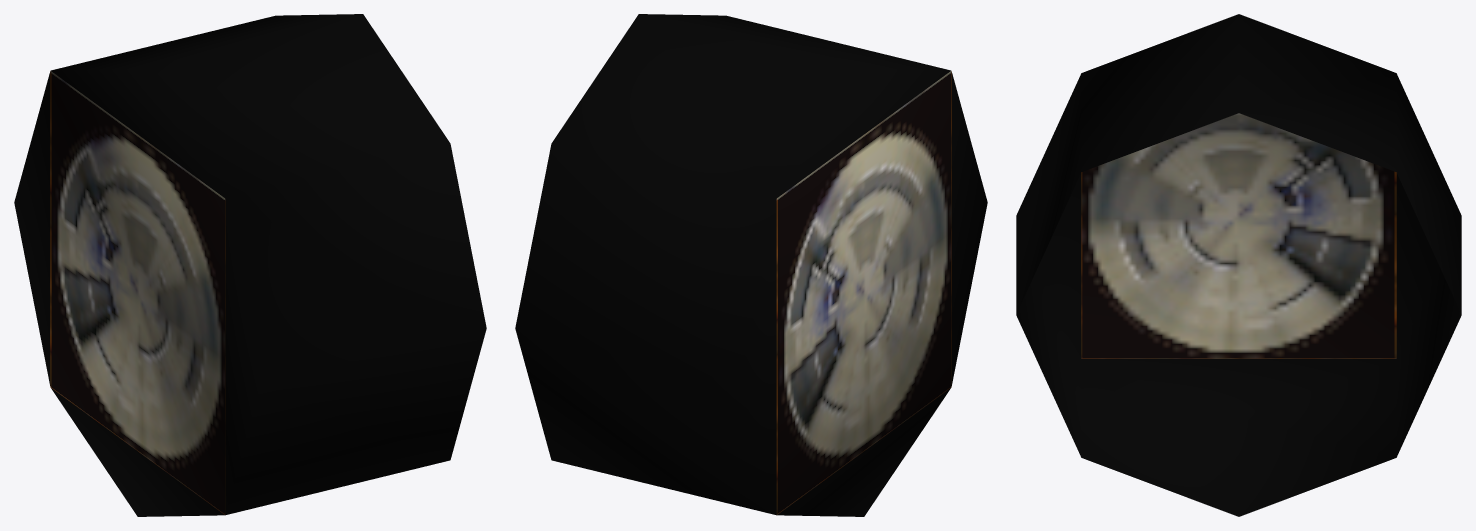
Rendered from WheelFrontR.obj.
3 renders of one model, left to right at view 1: azimuth 30°, elevation 25°; view 2: azimuth 150°, elevation 25°; view 3: azimuth 270°, elevation 25°, orthographic. The views are drawn at different scales.
Parts seen in each view (by area): view 1: WheelFrontR; view 2: WheelFrontR; view 3: WheelFrontR.
Part boxes in pixels (<box>): WheelFrontR: <box>14,14,486,516</box>; WheelFrontR: <box>515,14,987,516</box>; WheelFrontR: <box>1016,14,1461,516</box>.
Size of the model in its own units: 0.7474 by 1.42 by 1.42.
2 materials, 1 textured.
